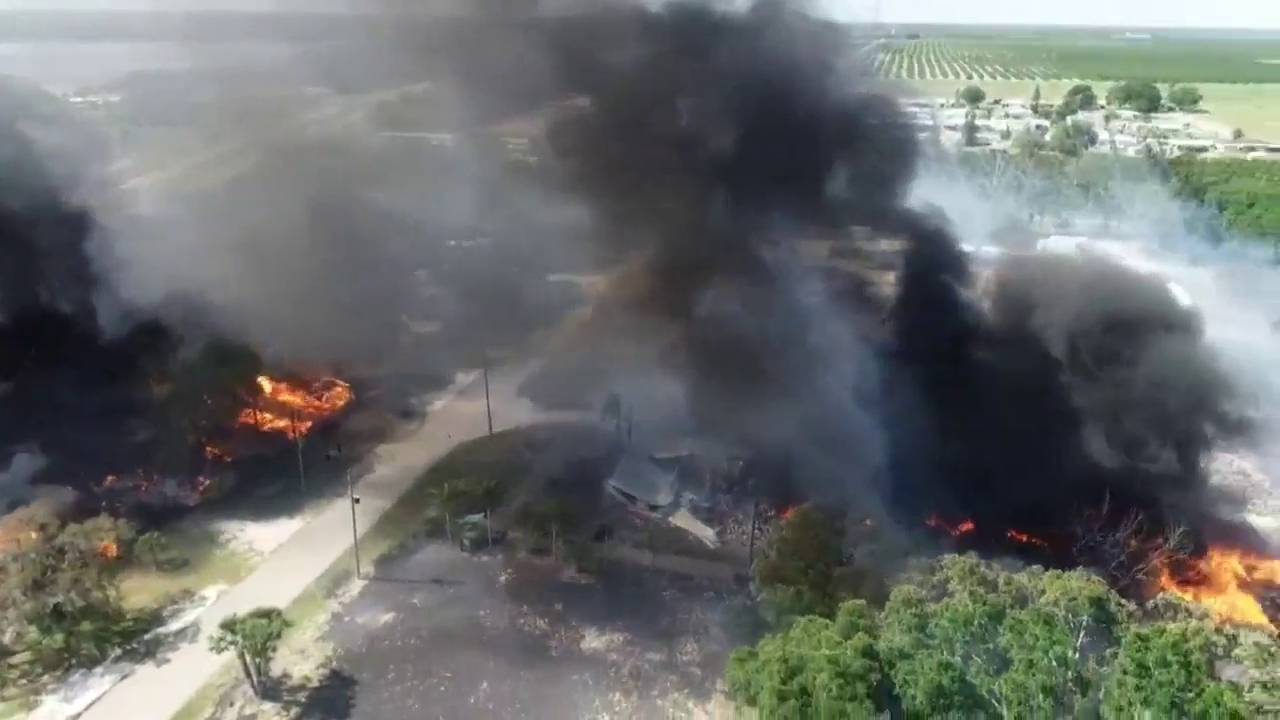forest_fire: (97, 374, 352, 502), (1120, 537, 1279, 627), (236, 374, 353, 438), (1002, 528, 1052, 550), (925, 515, 975, 537)
